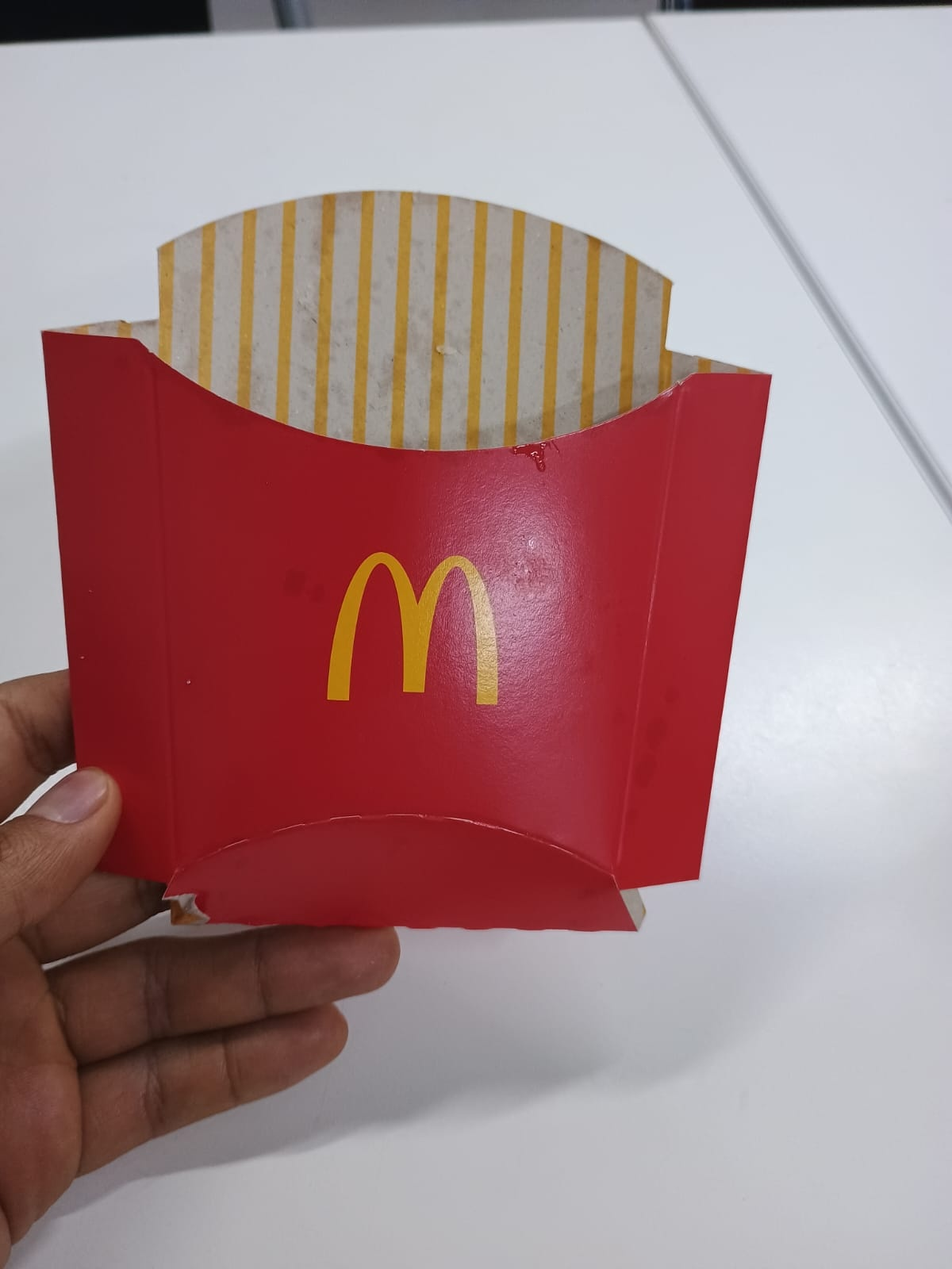Carton: (39, 191, 763, 922)
